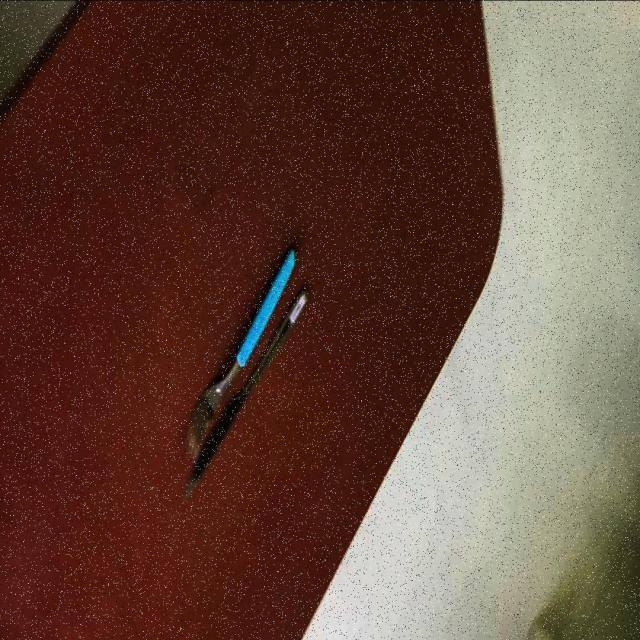Fork: (180, 286, 309, 502), (183, 244, 296, 462)
Knife: (180, 244, 309, 500), (182, 244, 296, 462)
